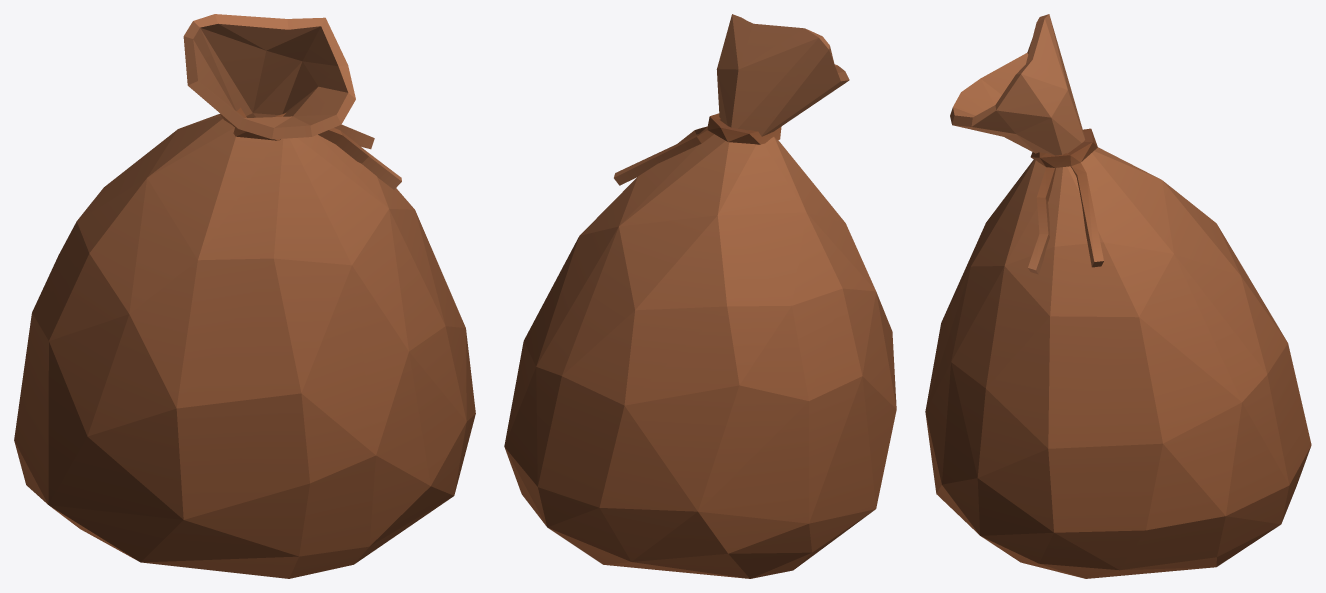
The model's file is SM_Sack_01.fbx.
The picture shows the model from 3 angles, left to right: view 1: azimuth 30°, elevation 25°; view 2: azimuth 150°, elevation 25°; view 3: azimuth 270°, elevation 25°; orthographic projection. The views are drawn at different scales.
Visible parts, largest first — view 1: SM_Sack_01; view 2: SM_Sack_01; view 3: SM_Sack_01.
Part boxes in pixels (box(x1,y1,x2,y2)): SM_Sack_01: box(14, 14, 475, 578); SM_Sack_01: box(504, 14, 896, 578); SM_Sack_01: box(925, 14, 1311, 578).
Bounding box in the file's own units: 58.16 × 77.78 × 57.15.
